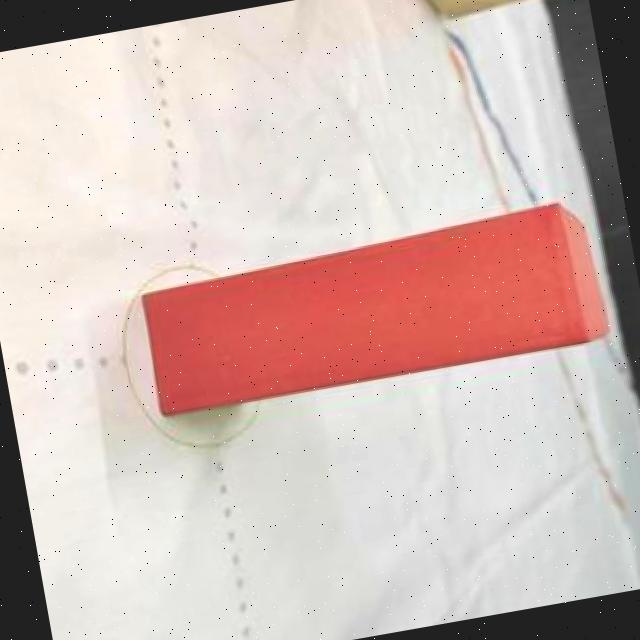redbox: (135, 195, 614, 422)
